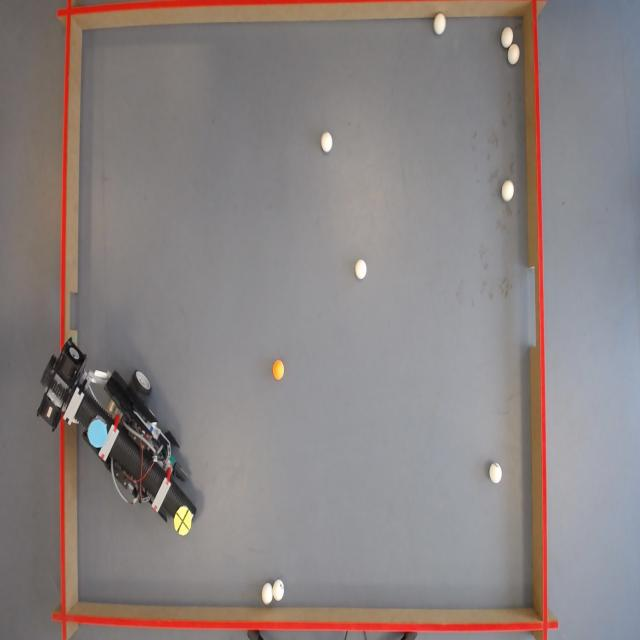orange: (273, 360, 287, 380)
robot: (42, 347, 198, 537)
robot-front: (175, 506, 192, 540)
robot-rear: (89, 417, 109, 450)
white: (272, 581, 286, 604), (501, 179, 515, 201), (263, 583, 276, 606), (434, 13, 448, 34), (321, 131, 334, 153), (500, 28, 514, 48), (509, 46, 522, 66), (490, 463, 503, 483), (355, 260, 367, 281)
